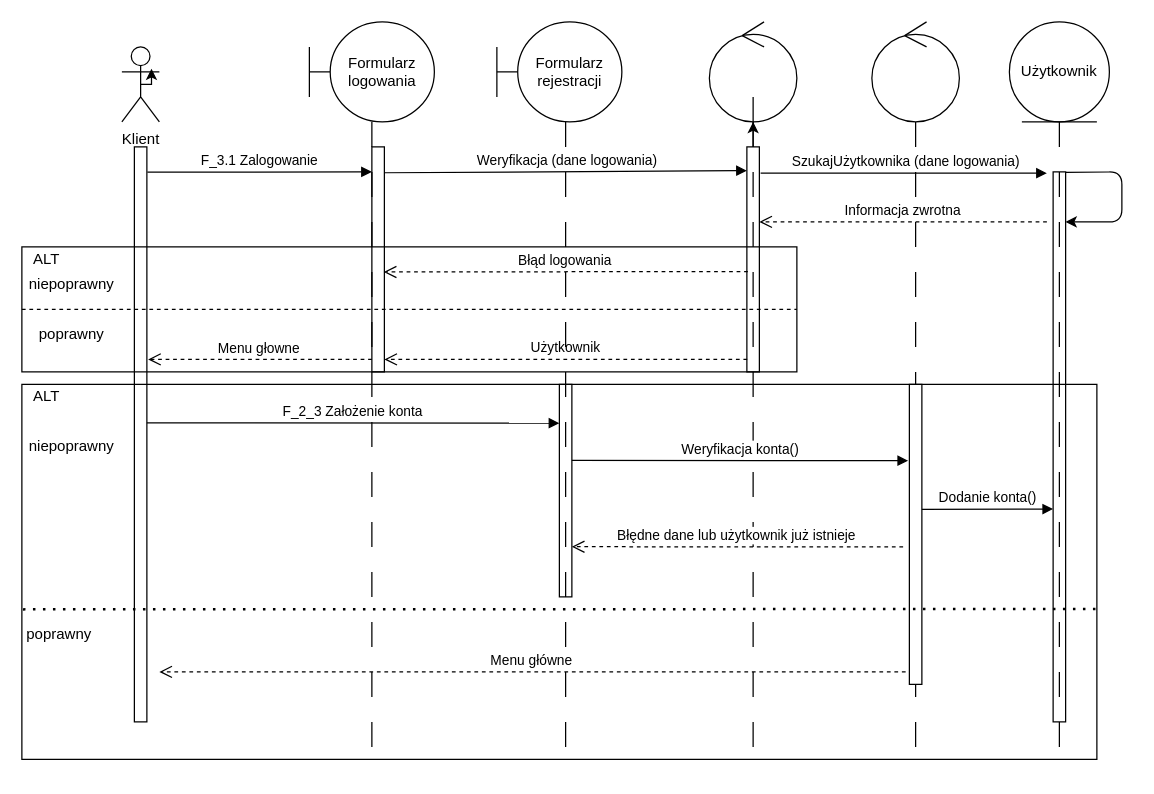
Some shapes in this 1154 by 794 pixel diagram are drawn without their labels. Here are the shapes that lost their labels. From the top down, the box of each, then its label:
(708, 21, 797, 122): Logowanie
(871, 21, 959, 122): Rejestracja
